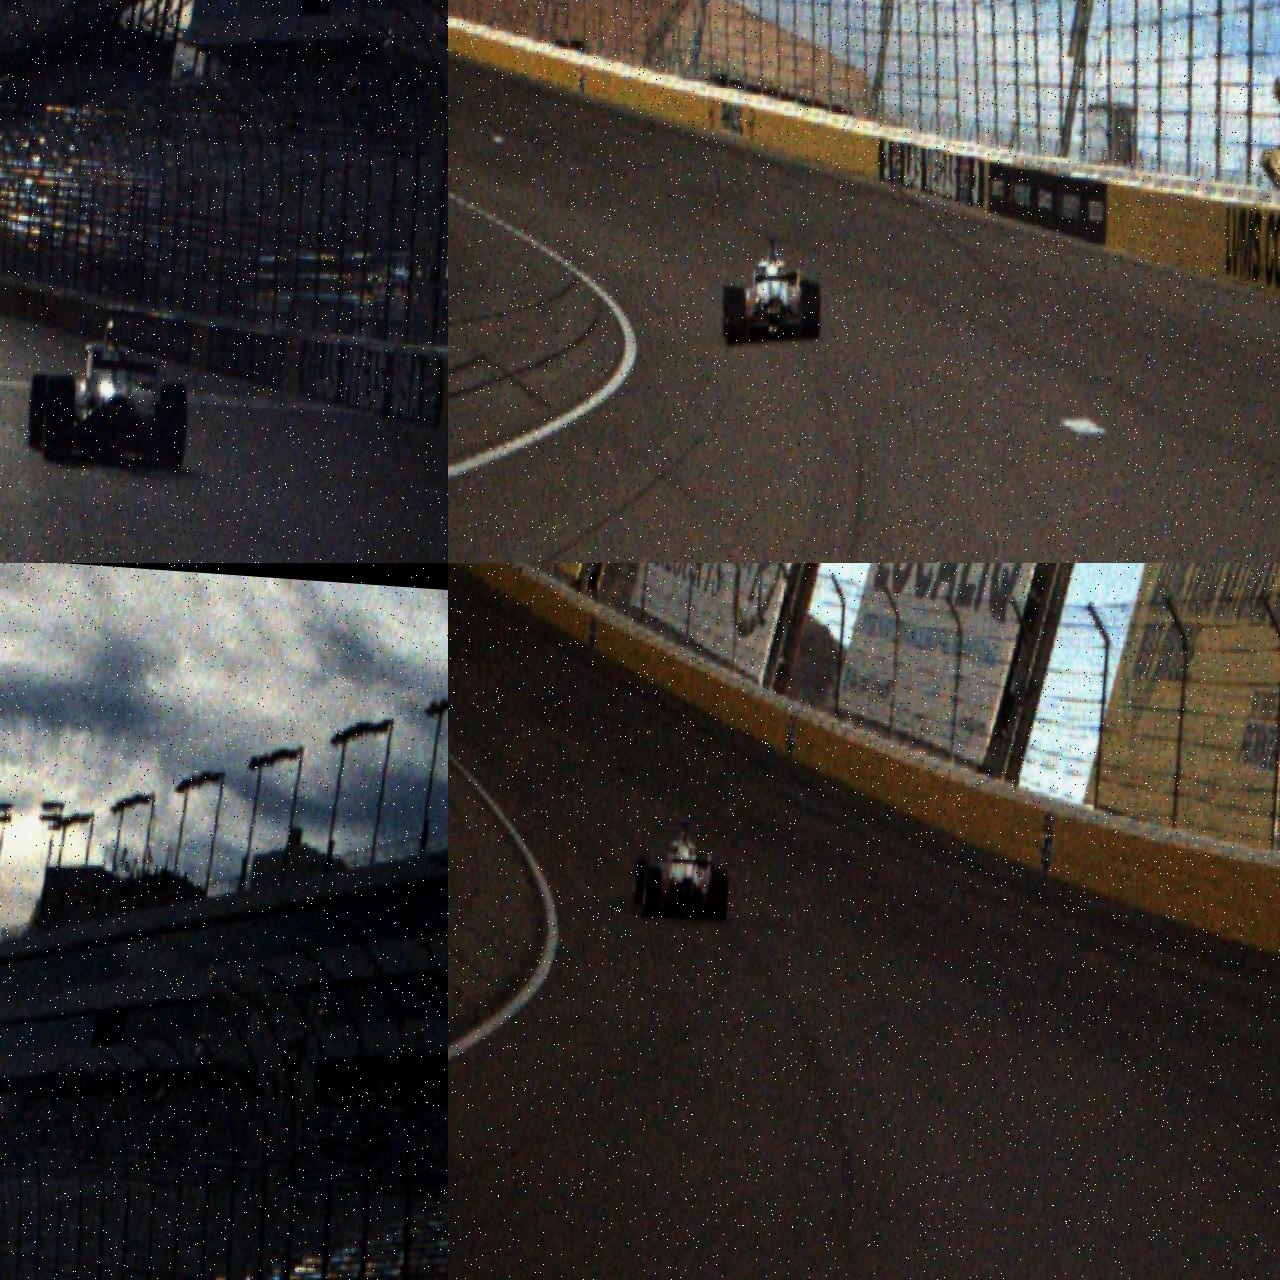AV: (25, 299, 197, 475), (720, 232, 826, 352), (629, 818, 733, 924)
Wheel: (154, 381, 191, 475), (41, 374, 76, 463), (27, 373, 50, 451), (798, 282, 823, 341), (721, 285, 744, 338), (641, 865, 663, 919), (726, 292, 747, 347), (708, 869, 729, 924), (631, 856, 651, 908)
